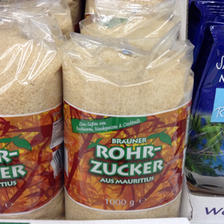tomato_sauce: (61, 34, 195, 224), (1, 35, 62, 224)
